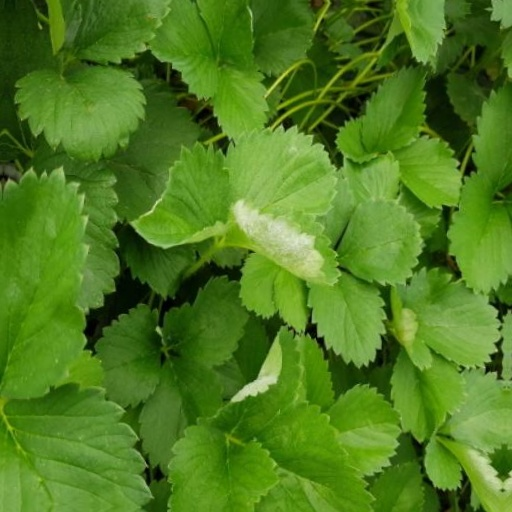Powdery Mildew Leaf: (201, 324, 309, 443), (228, 200, 341, 283)
